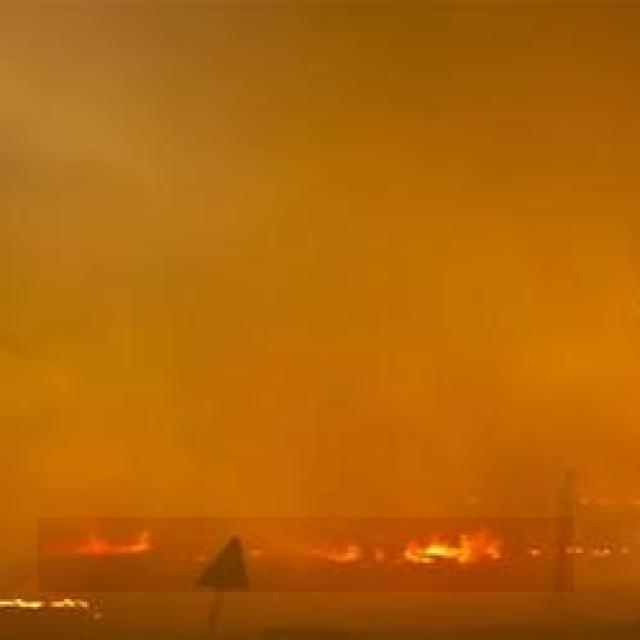Fire: (38, 517, 574, 592)
